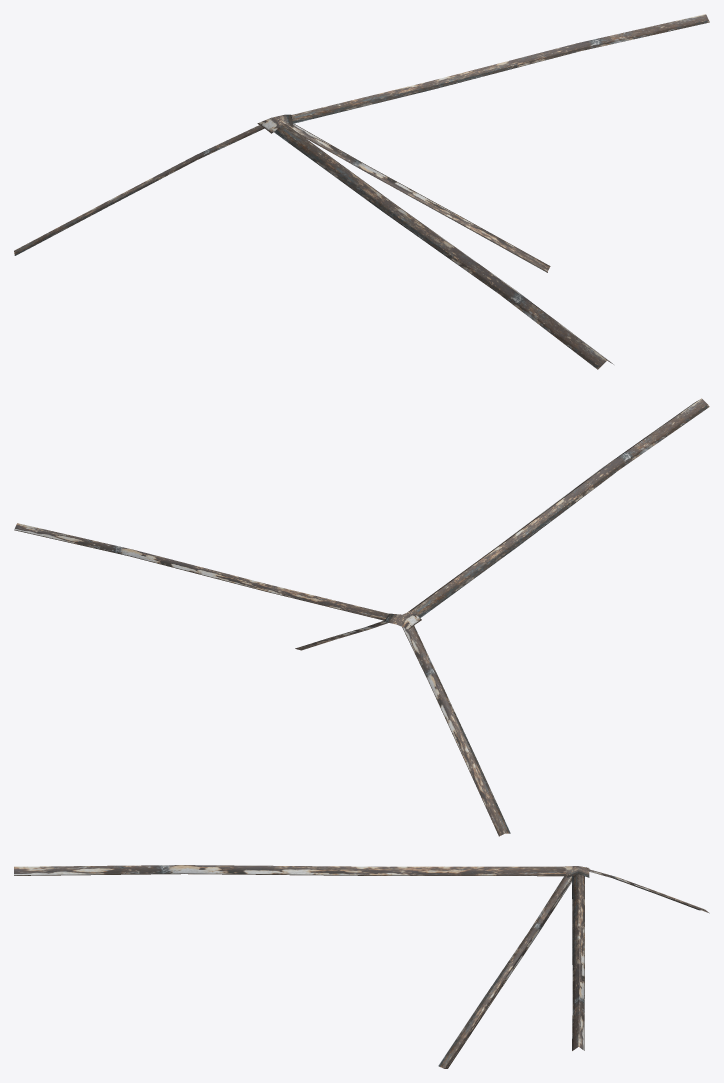
The model's file is Peak_02_Form2.fbx.
3 views of the same model, one above another, from view 1: azimuth 30°, elevation 25°; view 2: azimuth 150°, elevation 25°; view 3: azimuth 270°, elevation 25° (orthographic). The views are drawn at different scales.
Parts seen in each view (by area): view 1: Peak_02_Form2; view 2: Peak_02_Form2; view 3: Peak_02_Form2.
Boxes of the visible parts, <box> form: Peak_02_Form2: <box>14,14,709,369</box>; Peak_02_Form2: <box>14,398,709,836</box>; Peak_02_Form2: <box>14,865,709,1068</box>.
Size of the model in its own units: 1497 by 1708 by 337.
Materials: 1 (1 with a texture image).
